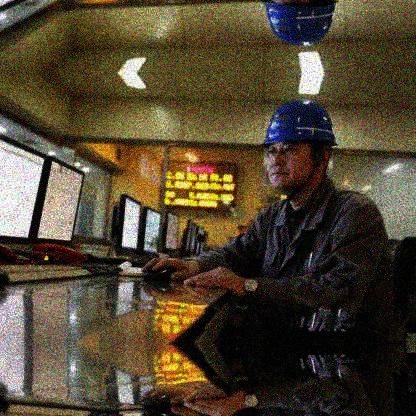helmet: (261, 97, 337, 192)
